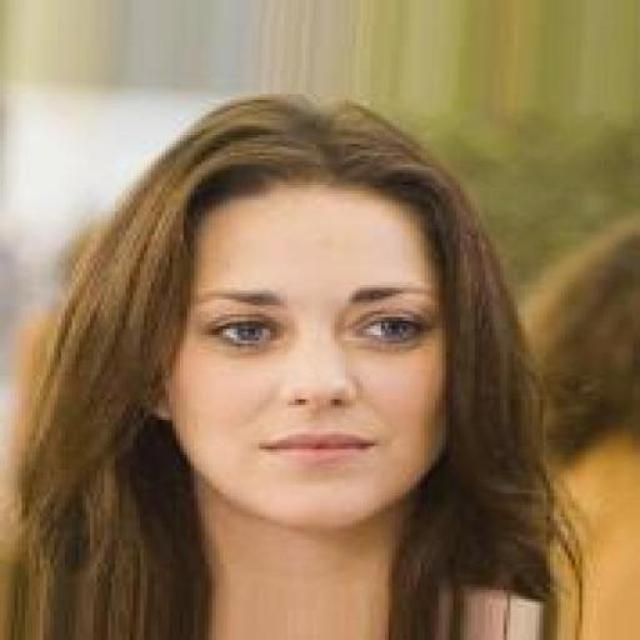bareface: (168, 158, 448, 548)
